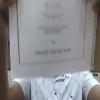notebook: (7, 0, 97, 79)
